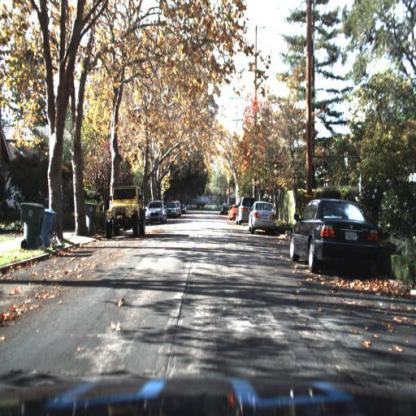car: (285, 185, 385, 284), (98, 182, 149, 245), (247, 198, 281, 236), (145, 195, 171, 229), (236, 195, 250, 228), (166, 203, 180, 221)
